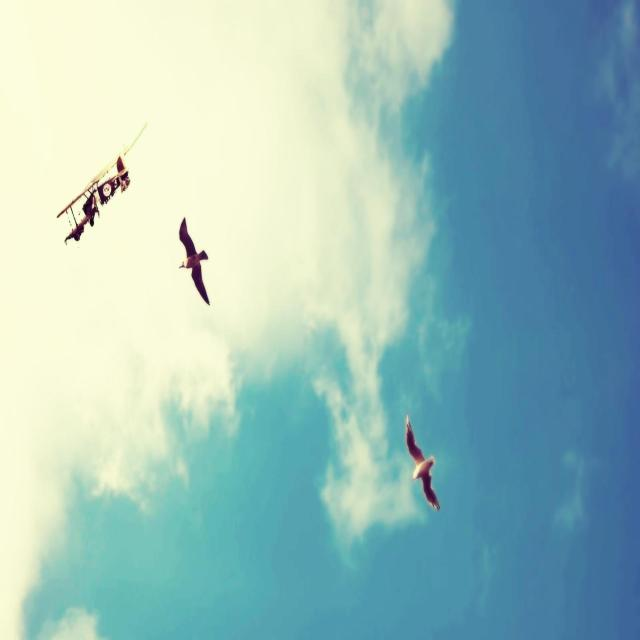airplane: (56, 120, 148, 246)
